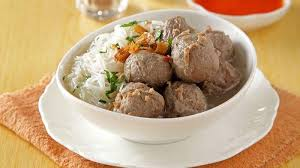bakso: (121, 23, 240, 118)
